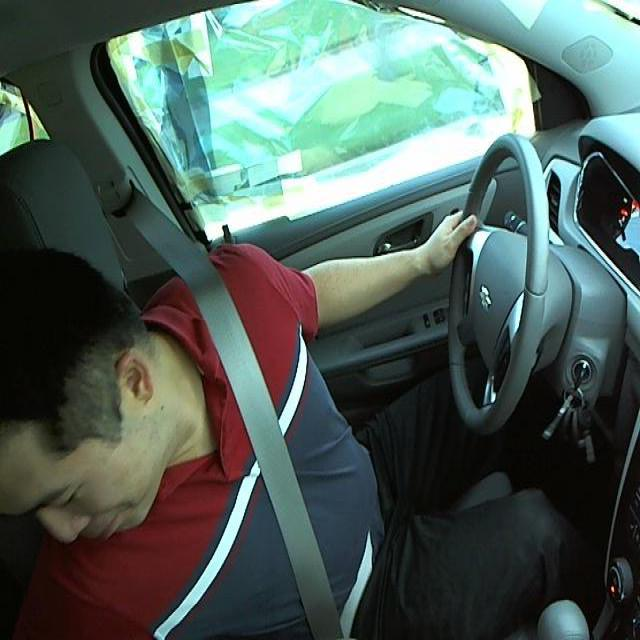seatbelt: (170, 285, 379, 628)
